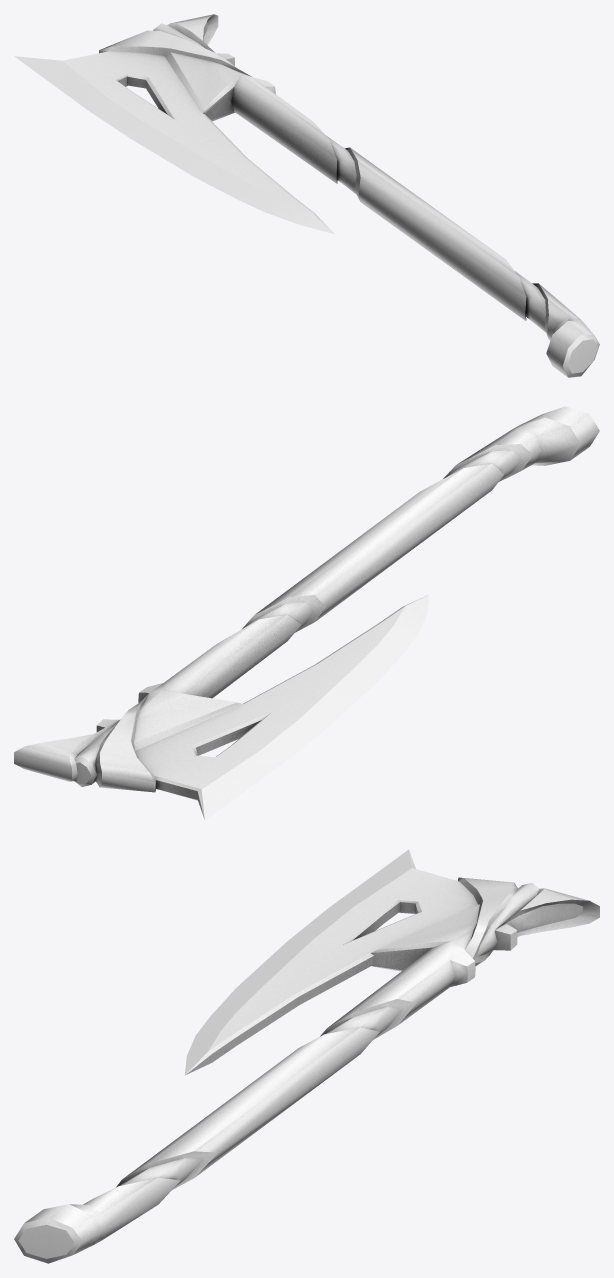
Rendered from magic_axe.fbx.
3 views of the same model, one above another, from view 1: azimuth 30°, elevation 25°; view 2: azimuth 150°, elevation 25°; view 3: azimuth 330°, elevation 25° (orthographic). The views are drawn at different scales.
Visible parts, largest first — view 1: MagicAxe; view 2: MagicAxe; view 3: MagicAxe.
Boxes of the visible parts, x1,y1,x2,y2 form: MagicAxe: (14,14,599,377); MagicAxe: (14,406,599,820); MagicAxe: (14,849,599,1263).
Size of what is drawn, in the model's own units: 169 by 37.58 by 702.
